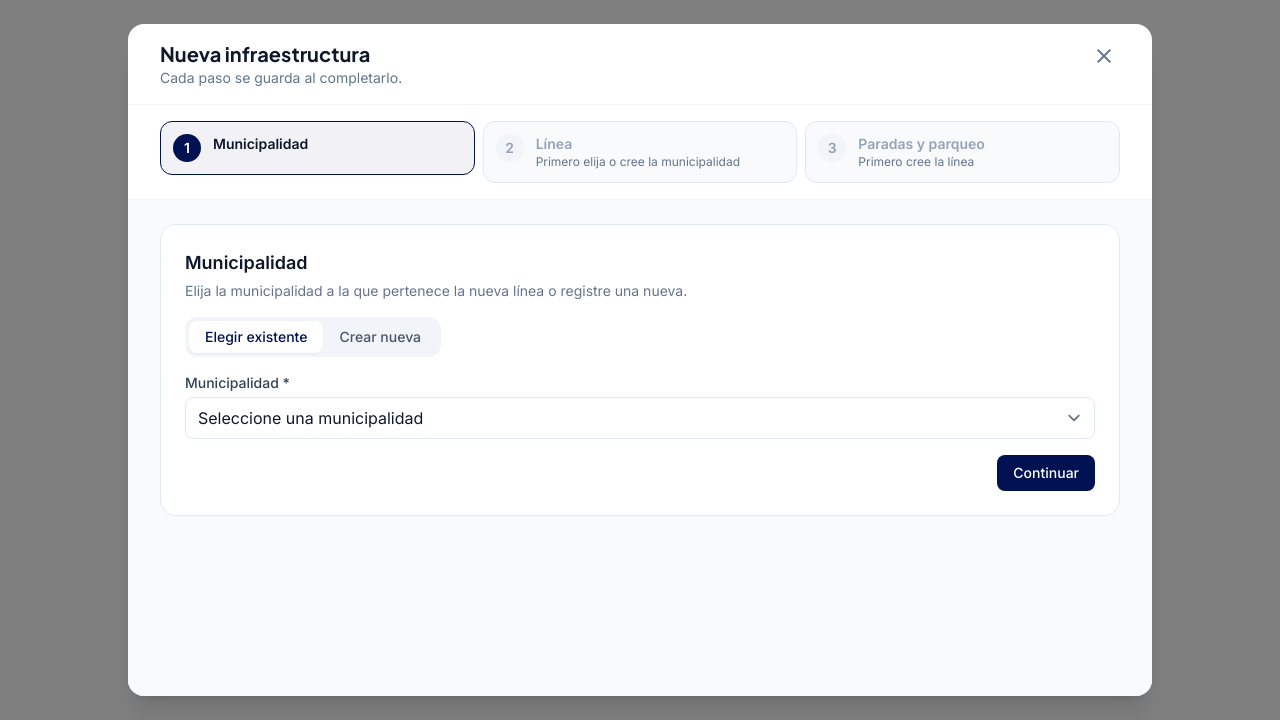
Test: Step 1: Municipalidad › creates a new municipalidad and continues with it
Click the radio button labelled "Crear nueva" at (380, 336), box [340, 328, 421, 345]
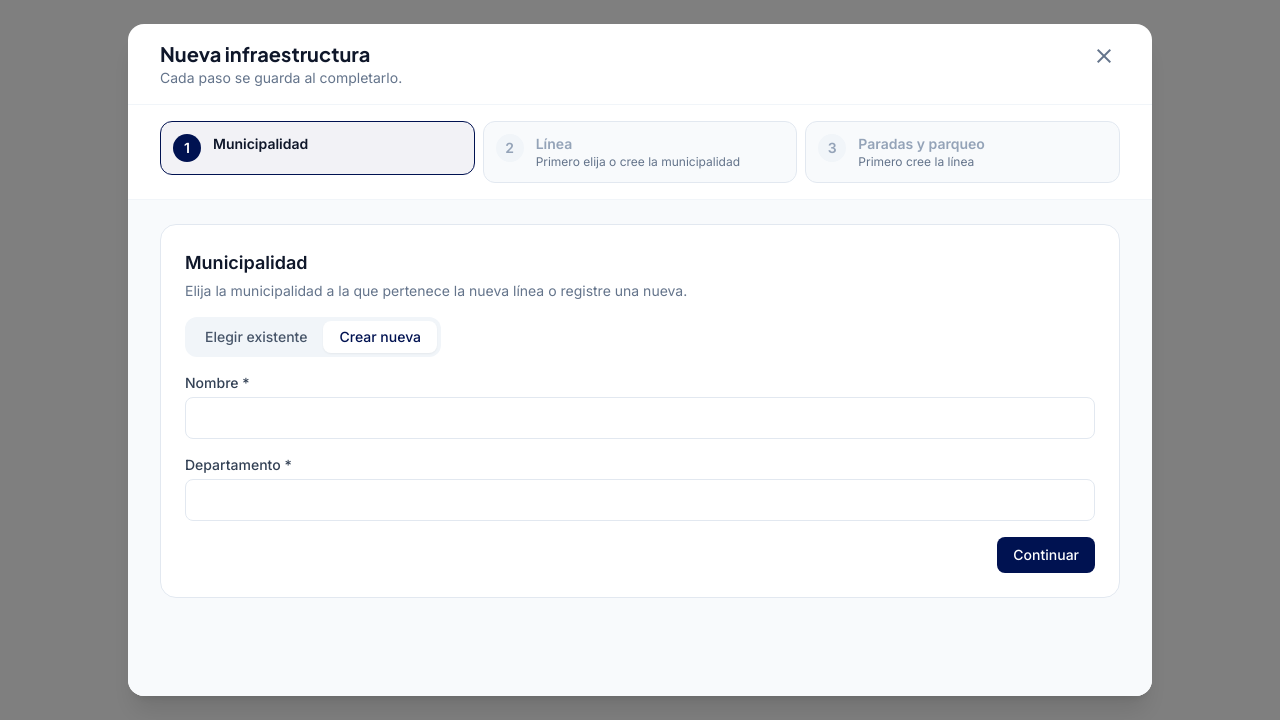
Type " Villa Nueva " into the field labelled "Nombre *" at (640, 418), box [185, 397, 1095, 439]
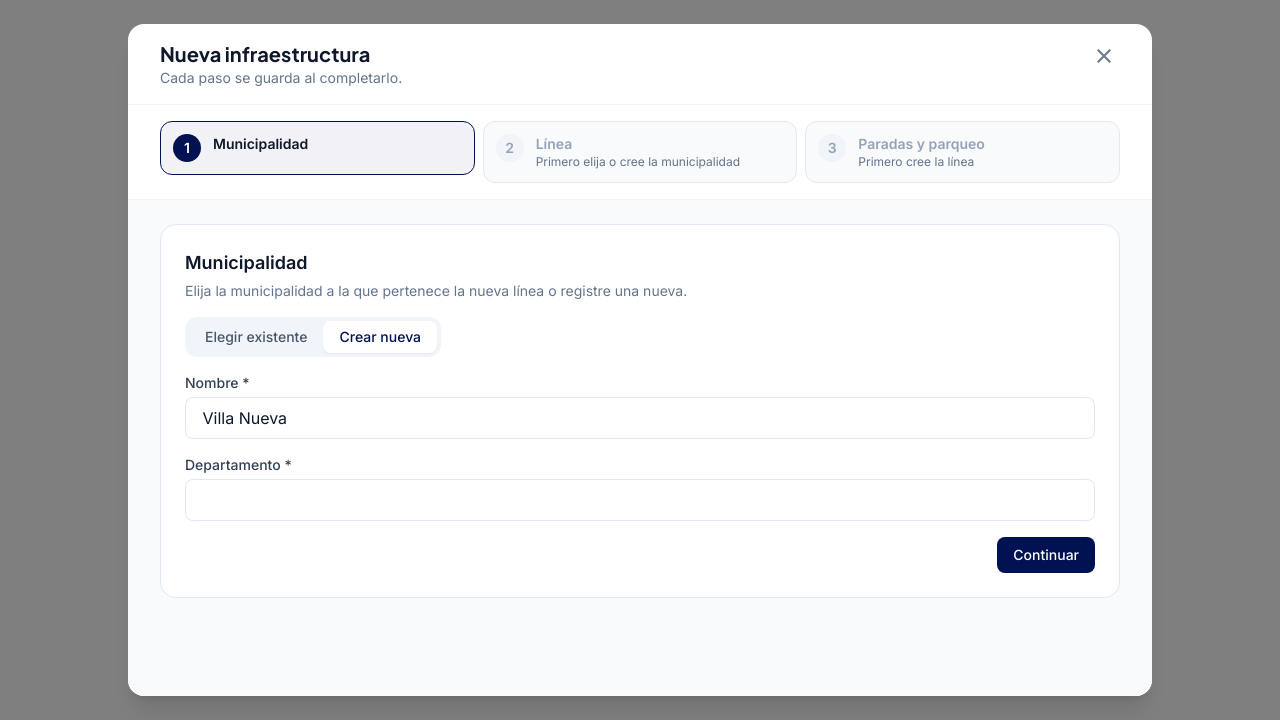
Type "Guatemala" into the field labelled "Departamento *" at (640, 500), box [185, 479, 1095, 521]
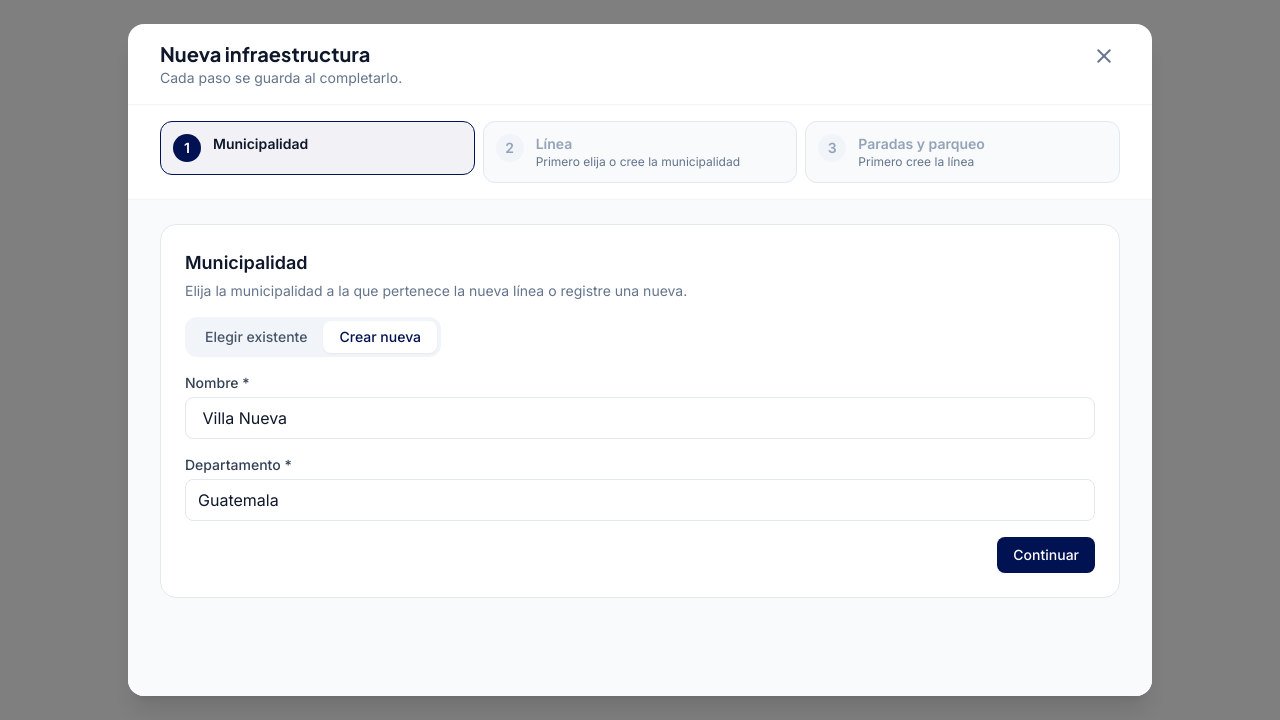
Click the button "Continuar" at (1046, 555), box [997, 537, 1095, 573]
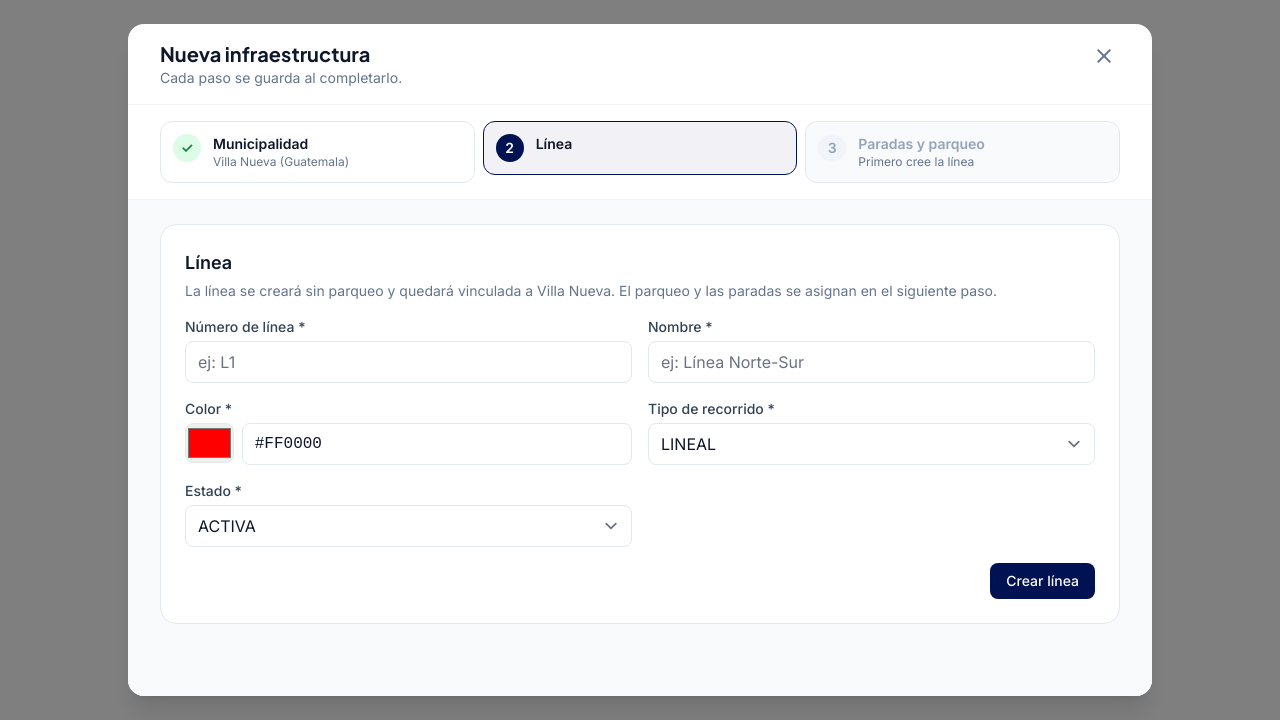
Now the button "Crear línea" is shown, box [990, 563, 1095, 599]
